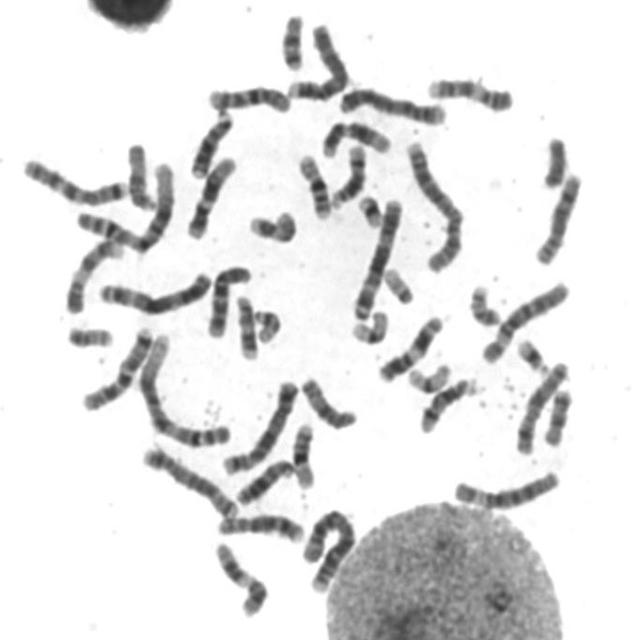A1: (132, 326, 235, 450), (72, 157, 178, 255)
A2: (400, 135, 467, 275), (297, 502, 359, 594)
A3: (347, 192, 406, 322), (93, 266, 214, 317)
B4: (283, 18, 350, 102), (334, 80, 449, 127)
B5: (217, 373, 301, 478), (136, 439, 242, 522)
C10: (202, 260, 255, 340), (203, 79, 293, 116)
C11: (373, 310, 447, 386), (210, 536, 270, 620)
C12: (182, 150, 240, 242), (316, 115, 394, 160)
C6: (477, 275, 572, 367), (448, 464, 563, 512)
C7: (76, 320, 156, 413), (16, 151, 131, 208)
C8: (529, 166, 586, 268), (212, 507, 306, 545)
C9: (61, 234, 127, 316), (422, 70, 516, 115)
D13: (185, 106, 236, 180), (231, 453, 298, 508)
D14: (414, 372, 484, 435), (326, 139, 369, 210)
D15: (296, 370, 360, 432), (121, 137, 158, 214)
E16: (292, 148, 335, 222), (288, 417, 318, 491)
E17: (244, 204, 299, 245), (230, 289, 260, 362)
E18: (538, 384, 576, 448), (276, 7, 308, 72)
F19: (402, 357, 454, 396), (347, 304, 391, 347)
F20: (464, 279, 504, 329), (62, 320, 116, 350)
G21: (511, 332, 553, 376), (354, 190, 386, 230)
G22: (378, 262, 416, 306), (249, 304, 284, 345)
X: (510, 355, 572, 457)
Y: (536, 130, 570, 190)
